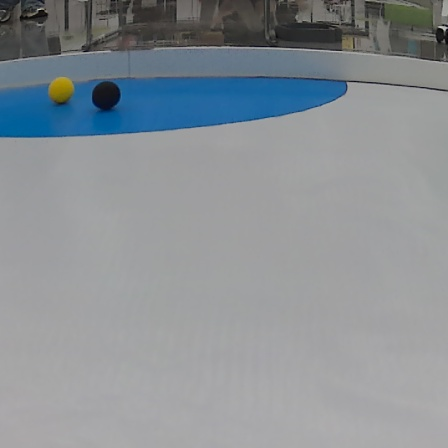black: (95, 80, 122, 111)
blue_base: (0, 75, 351, 139)
yellow: (47, 77, 70, 105)
